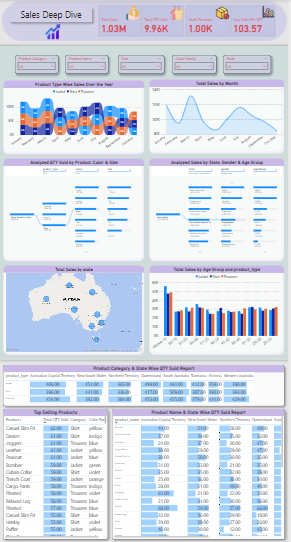

What the dashboard file says about the page in this screenshot:
{"tool":"powerbi","page":{"name":"Sales  Deep Dive","canvas":[1600,3050],"ordinal":2},"visuals":[{"type":"shape","box":[0,0,1600,242],"z":0},{"type":"shape","box":[0,258,1600,1740],"z":1000},{"type":"areaChart","title":"Total Sales by Month","fields":{"Y":["shirts sales.Total Sales"],"Category":["shirts orders.Month Name"]},"box":[824,446,752,416],"z":2000},{"type":"ribbonChart","title":"Product Type Wise Sales Over the Year","fields":{"Category":["shirts orders.Month Name"],"Y":["shirts sales.Total Sales"],"Series":["shirts products.product_type"]},"box":[16,448,786,414],"z":3000},{"type":"slicer","fields":{"Values":["shirts products.product_type"]},"box":[95,308.3,240,103.3],"z":4000},{"type":"slicer","fields":{"Values":["shirts products.product_name"]},"box":[380,308.3,240,103.3],"z":5000},{"type":"cardVisual","fields":{"Data":["shirts sales.Total Sales"]},"box":[544,36,240,176],"z":6000},{"type":"cardVisual","fields":{"Data":["shirts sales.Total Quantity Sold"]},"box":[784,36,240,176],"z":7000},{"type":"slicer","fields":{"Values":["shirts products.colour"]},"box":[954,308,246,104],"z":8000},{"type":"slicer","fields":{"Values":["shirts products.size"]},"box":[656,308,256,104],"z":9000},{"type":"textbox","box":[65,36.7,455,76.7],"z":10000},{"type":"decompositionTreeVisual","title":"Analyzed QTY Sold by Product, Color & Size","fields":{"Analyze":["shirts sales.Total Quantity Sold"],"ExplainBy":["shirts products.product_type","shirts products.colour","shirts products.size"]},"box":[16,880,784,574],"z":11000},{"type":"decompositionTreeVisual","title":"Analyzed Sales by State, Gender & Age Group","fields":{"Analyze":["shirts sales.Total Sales"],"ExplainBy":["shirts customers.state","shirts customers.gender","shirts customers.Age Group"]},"box":[824,880,752,574],"z":12000},{"type":"cardVisual","fields":{"Data":["shirts orders.Order Received"]},"box":[1024,36,250,176],"z":13000},{"type":"cardVisual","fields":{"Data":["shirts sales.Avg. Sales Per QTY"]},"box":[1274,36,254,176],"z":14000},{"type":"map","title":"Amount of Sales by State","fields":{"Category":["shirts customers.state"],"Size":["shirts sales.Total Sales"]},"box":[16,1474,786,500],"z":15000},{"type":"clusteredColumnChart","title":"Age Group Wise Product Sales","fields":{"Category":["shirts customers.Age Group"],"Series":["shirts products.product_type"],"Y":["shirts sales.Total Sales"]},"box":[824,1474,752,500],"z":16000},{"type":"tableEx","title":"Top Selling Products","fields":{"Values":["shirts products.product_name","shirts sales.Total Quantity Sold","shirts products.product_type","shirts products.colour"]},"box":[10,2276.7,581.7,723.3],"z":17000},{"type":"pivotTable","title":"Product Category & State Wise QTY Sold Report","fields":{"Columns":["shirts customers.state"],"Rows":["shirts products.product_type"],"Values":["shirts sales.Total Quantity Sold"]},"box":[18,2028,1560,228],"z":18000},{"type":"pivotTable","title":"Product Name & State Wise QTY Sold Report","fields":{"Columns":["shirts customers.state"],"Values":["shirts sales.Total Quantity Sold"],"Rows":["shirts products.product_name"]},"box":[620,2276,958,724],"z":19000},{"type":"image","box":[694,36,90,88],"z":20000},{"type":"image","box":[936,36,88,88],"z":21000},{"type":"image","box":[1186,36,96,88],"z":22000},{"type":"image","box":[1455,36.7,73.3,71.7],"z":23000},{"type":"image","box":[243.3,108.3,116.7,133.3],"z":24000},{"type":"slicer","fields":{"Values":["shirts customers.state"]},"box":[1234,308,266,104],"z":25000}]}

Visuals, with their boxes in screenshot pixels (x1, y1, x2, y2), scaled from the page's 1600x3050 canvas onto the 291x542 screenshot:
shape: rect(0, 0, 290, 43)
shape: rect(0, 46, 290, 355)
"Total Sales by Month" areaChart: rect(150, 79, 287, 153)
"Product Type Wise Sales Over the Year" ribbonChart: rect(3, 80, 146, 153)
slicer - shirts products.product_type: rect(17, 55, 61, 73)
slicer - shirts products.product_name: rect(69, 55, 113, 73)
cardVisual - shirts sales.Total Sales: rect(99, 6, 143, 38)
cardVisual - shirts sales.Total Quantity Sold: rect(143, 6, 186, 38)
slicer - shirts products.colour: rect(174, 55, 218, 73)
slicer - shirts products.size: rect(119, 55, 166, 73)
textbox: rect(12, 7, 95, 20)
"Analyzed QTY Sold by Product, Color & Size" decompositionTreeVisual: rect(3, 156, 146, 258)
"Analyzed Sales by State, Gender & Age Group" decompositionTreeVisual: rect(150, 156, 287, 258)
cardVisual - shirts orders.Order Received: rect(186, 6, 232, 38)
cardVisual - shirts sales.Avg. Sales Per QTY: rect(232, 6, 278, 38)
"Amount of Sales by State" map: rect(3, 262, 146, 351)
"Age Group Wise Product Sales" clusteredColumnChart: rect(150, 262, 287, 351)
"Top Selling Products" tableEx: rect(2, 405, 108, 533)
"Product Category & State Wise QTY Sold Report" pivotTable: rect(3, 360, 287, 401)
"Product Name & State Wise QTY Sold Report" pivotTable: rect(113, 404, 287, 533)
image: rect(126, 6, 143, 22)
image: rect(170, 6, 186, 22)
image: rect(216, 6, 233, 22)
image: rect(265, 7, 278, 19)
image: rect(44, 19, 65, 43)
slicer - shirts customers.state: rect(224, 55, 273, 73)
